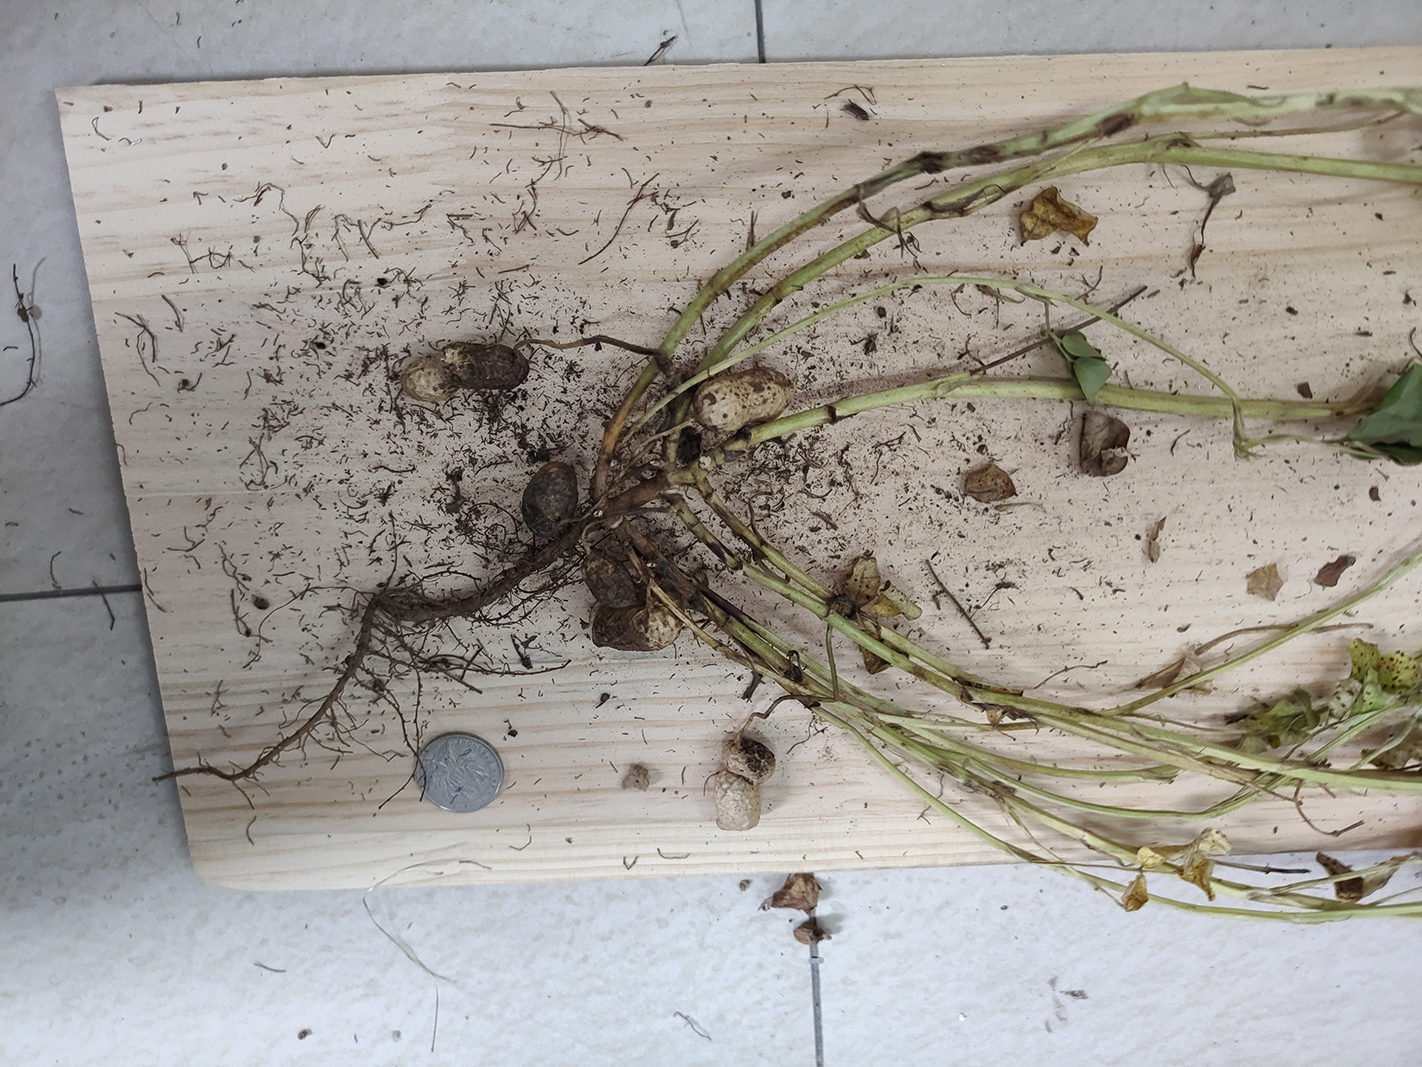h: (694, 365, 794, 433), (712, 737, 777, 833)
l: (399, 340, 531, 402), (592, 586, 686, 650), (519, 462, 579, 540), (580, 558, 639, 606)
